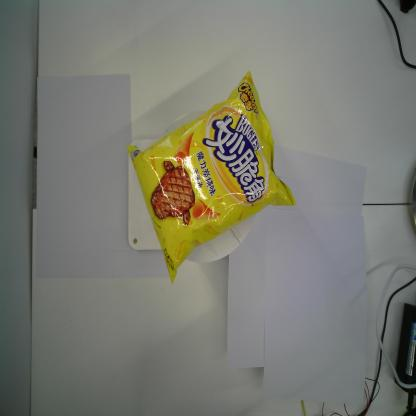Puffed Food: (124, 68, 297, 286)
